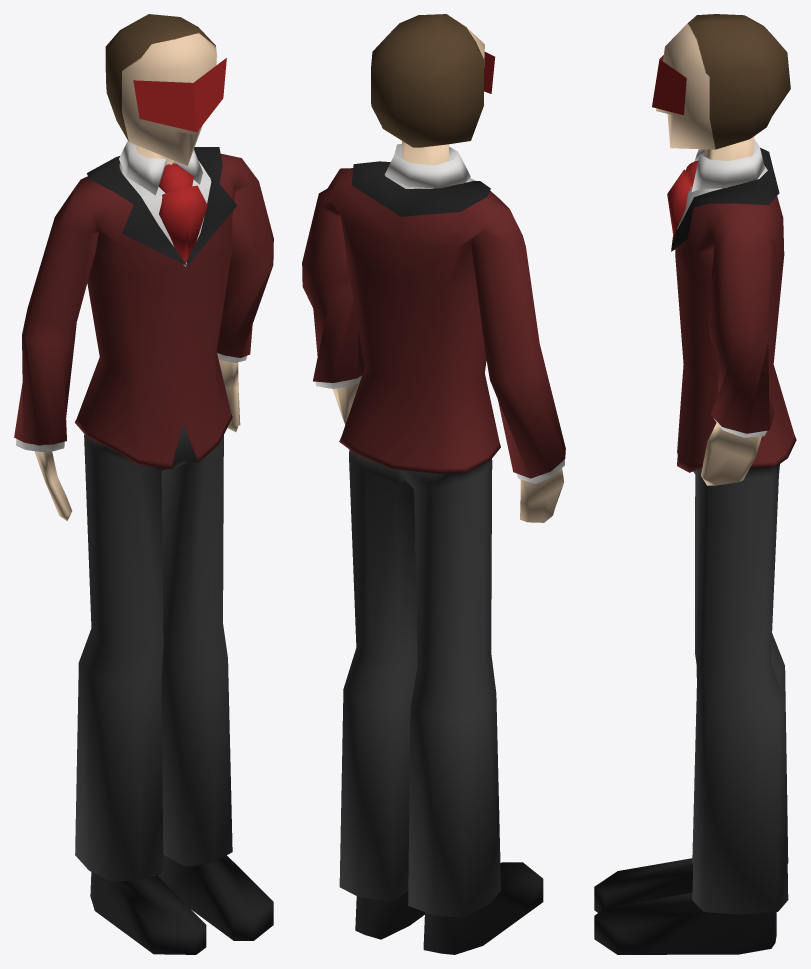
Rendered from Character1.fbx.
3 views of the same model, side by side, from view 1: azimuth 30°, elevation 25°; view 2: azimuth 150°, elevation 25°; view 3: azimuth 270°, elevation 25° (orthographic). The views are drawn at different scales.
Parts seen in each view (by area): view 1: CHARA_Base.001, CHARA_Base_Head.001, CHARA_Base_Mask.001; view 2: CHARA_Base.001, CHARA_Base_Head.001; view 3: CHARA_Base.001, CHARA_Base_Head.001, CHARA_Base_Mask.001.
Boxes of the visible parts, bbox=[...] form: CHARA_Base.001: bbox=[14, 141, 273, 954]; CHARA_Base_Head.001: bbox=[105, 14, 216, 165]; CHARA_Base_Mask.001: bbox=[133, 58, 226, 132]; CHARA_Base.001: bbox=[302, 141, 565, 954]; CHARA_Base_Head.001: bbox=[371, 14, 484, 147]; CHARA_Base.001: bbox=[594, 136, 796, 954]; CHARA_Base_Head.001: bbox=[656, 14, 790, 149]; CHARA_Base_Mask.001: bbox=[652, 55, 686, 115].
Bounding box in the file's own units: 60.57 × 202 × 40.93.
